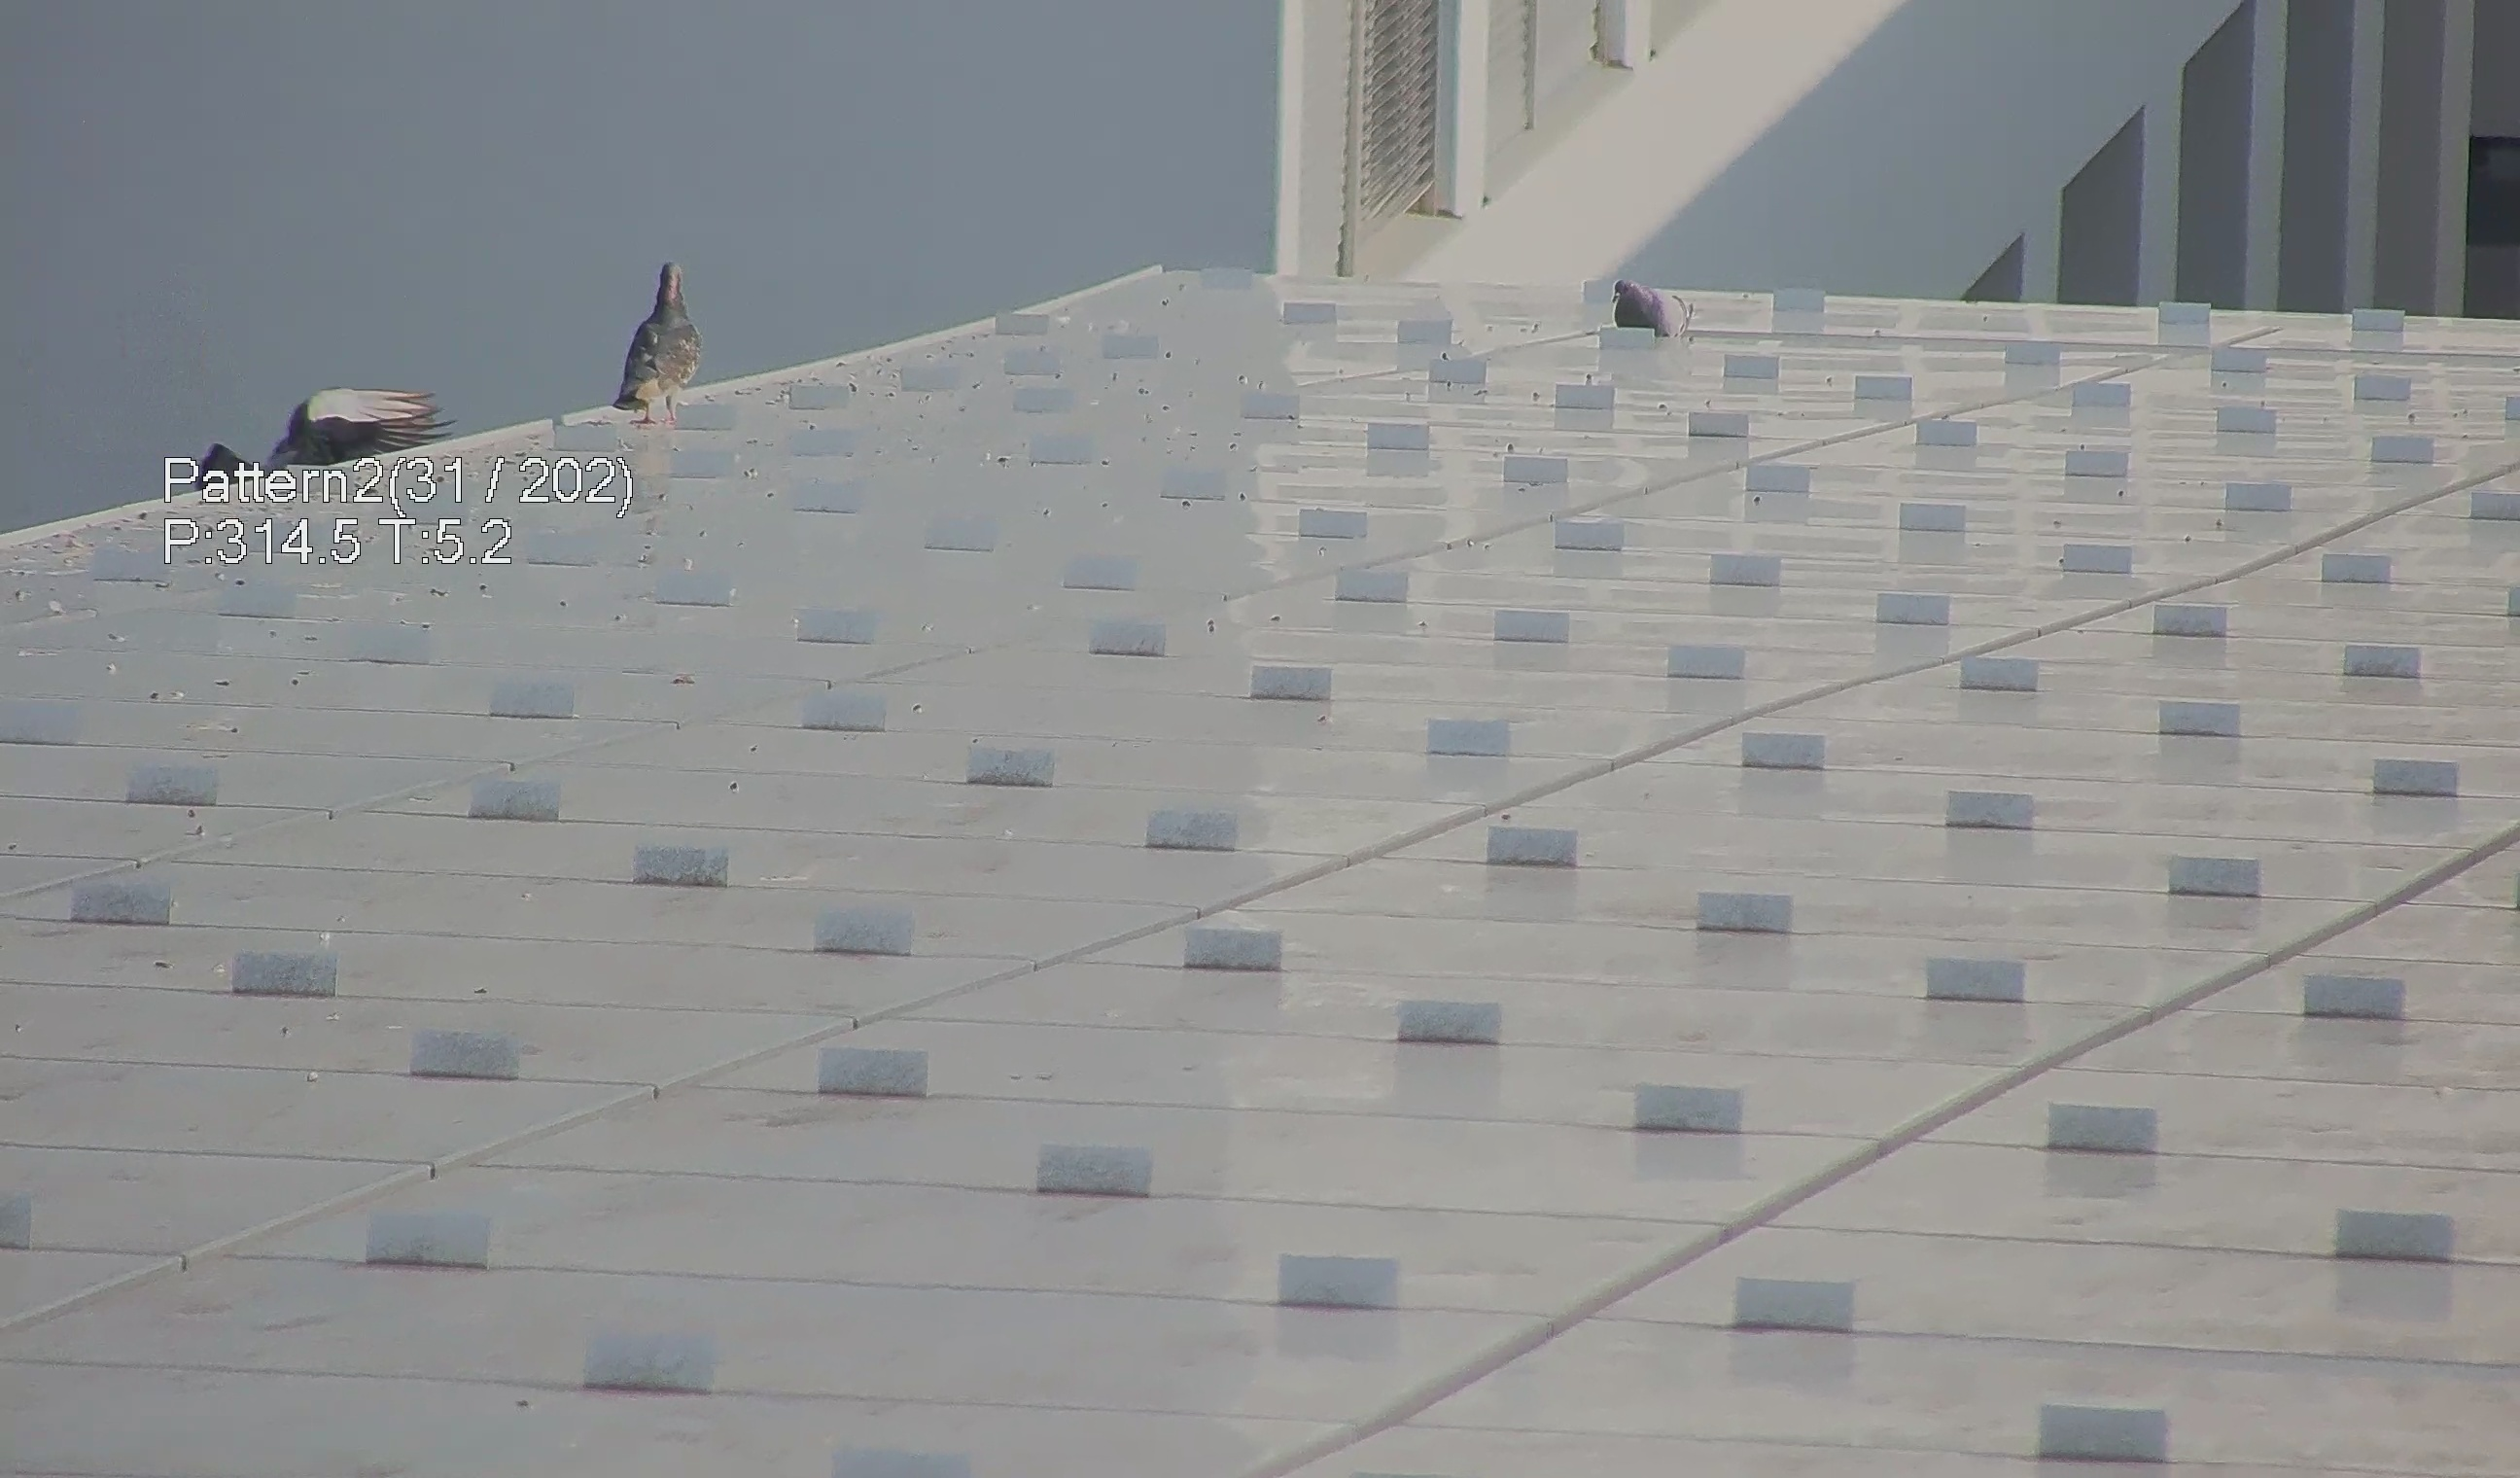Pigeon: (587, 246, 696, 421), (1593, 274, 1708, 352)
